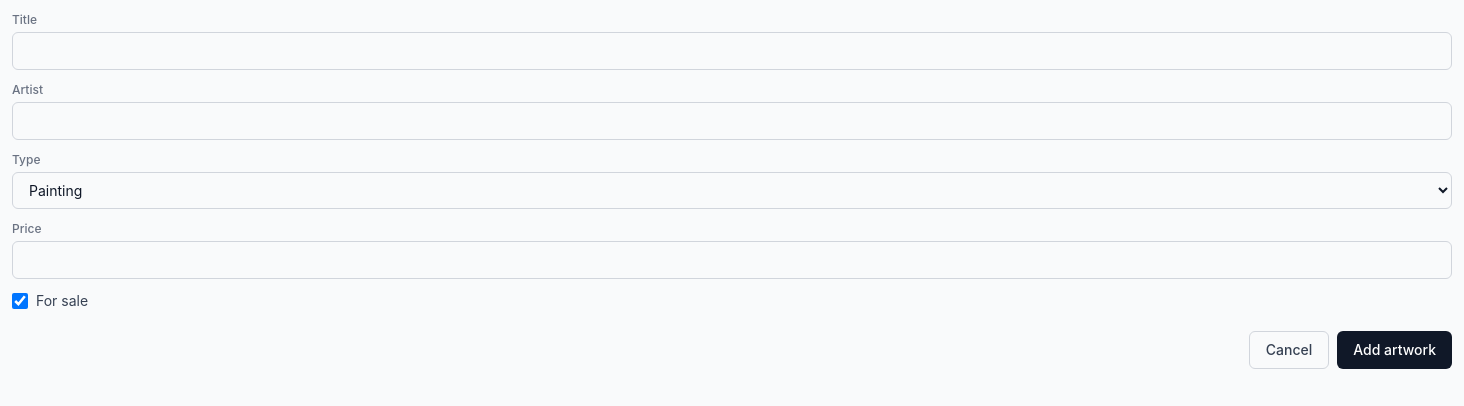
Test: ArtworkForm › rejects a price above the maximum
Type "Small Sketch" into the field labelled "Title" at (732, 51), box [12,32,1452,70]
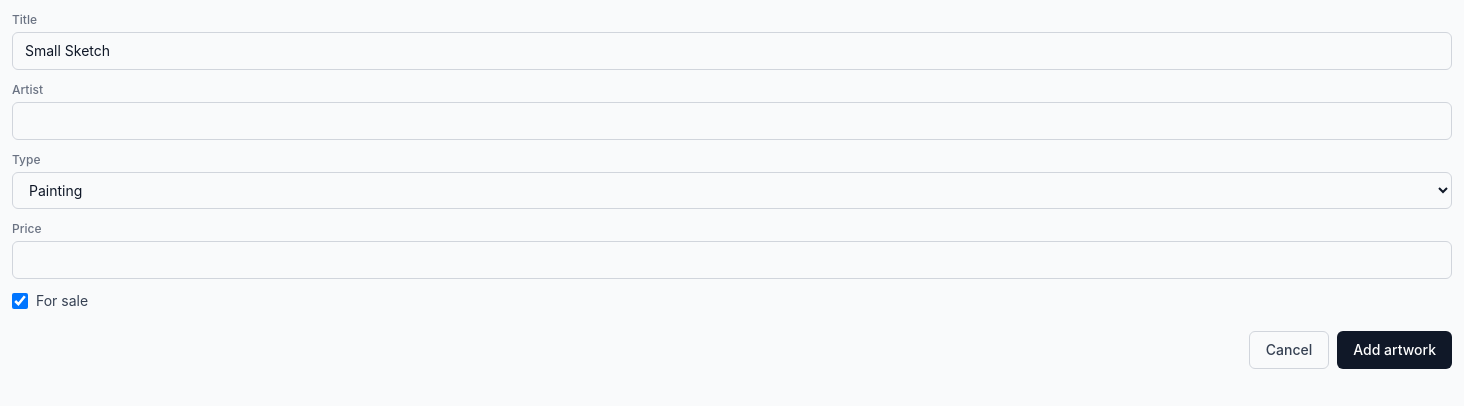
Type "Jane Doe" into the field labelled "Artist" at (732, 121), box [12,102,1452,140]
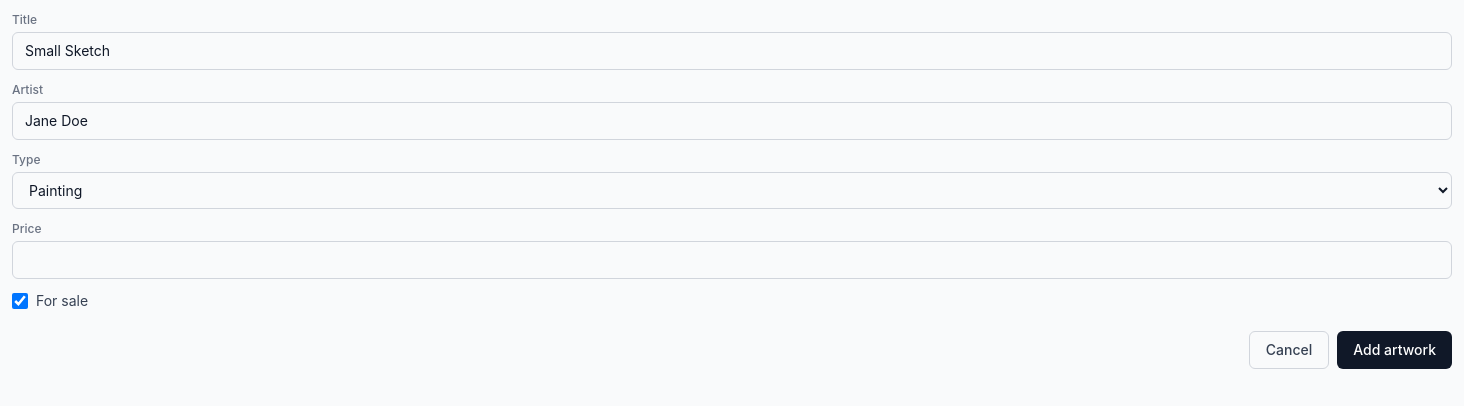
Type "1000000000.01" into the number field labelled "Price" at (732, 260), box [12,241,1452,279]
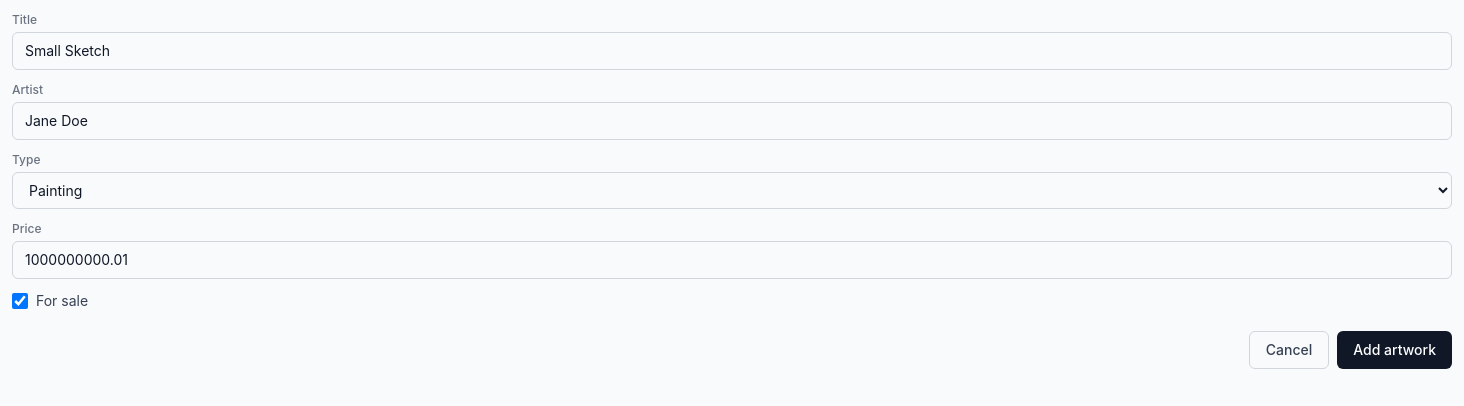
Click the button "Add artwork" at (1395, 350), box [1337,331,1452,369]
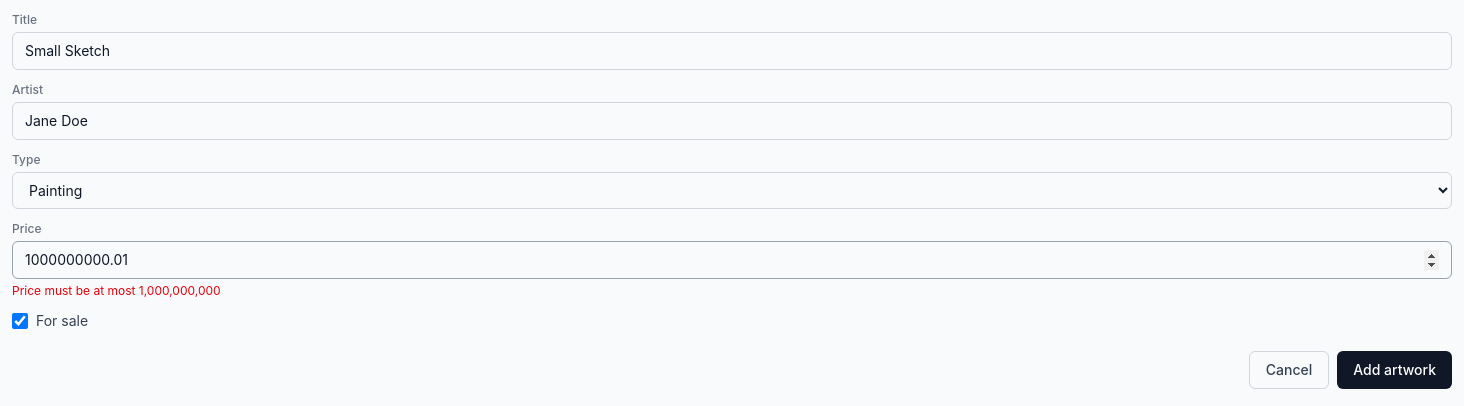
Result: the text "Price must be at most 1,000,000,000" is shown at [12,283,221,298]
